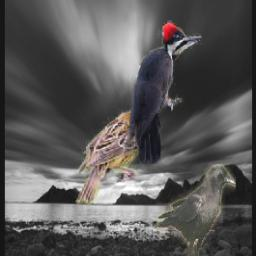Crow: (156, 164, 236, 256)
Sparrow: (75, 109, 151, 205)
Woodpecker: (125, 20, 202, 164)
